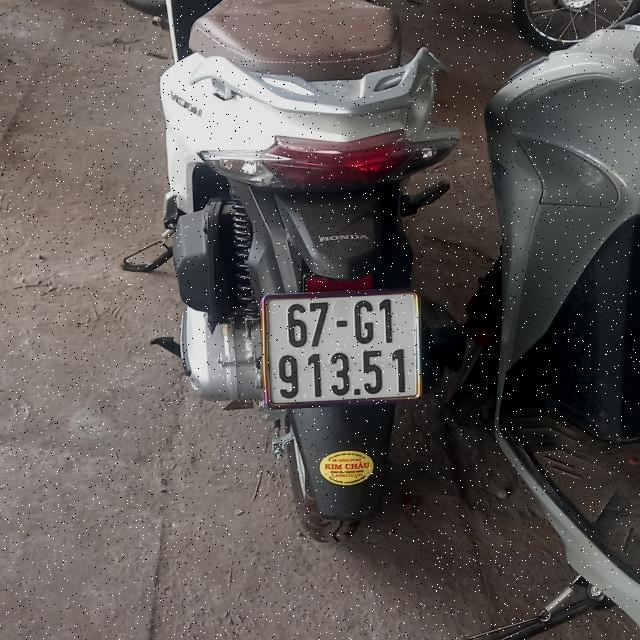1: (391, 349, 406, 393), (307, 353, 321, 397), (378, 299, 392, 341)
3: (329, 352, 348, 395)
5: (363, 350, 383, 394)
6: (287, 304, 307, 348)
7: (308, 302, 329, 348)
9: (278, 356, 299, 398)
G: (352, 300, 373, 344)
